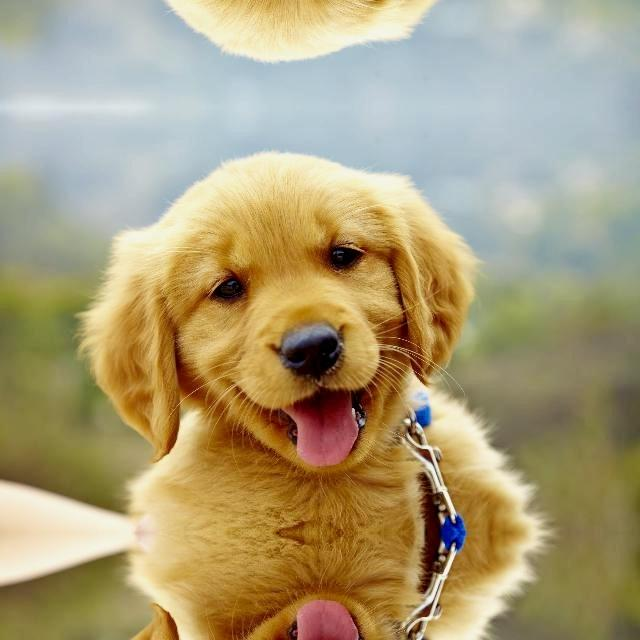dog: (56, 138, 494, 480), (57, 0, 494, 74), (57, 584, 494, 640)
